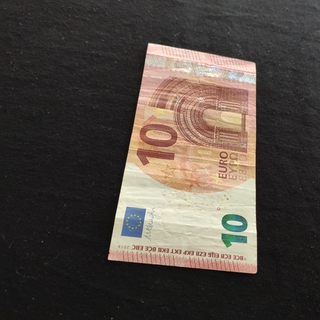10EUROFront: (107, 42, 257, 275)
